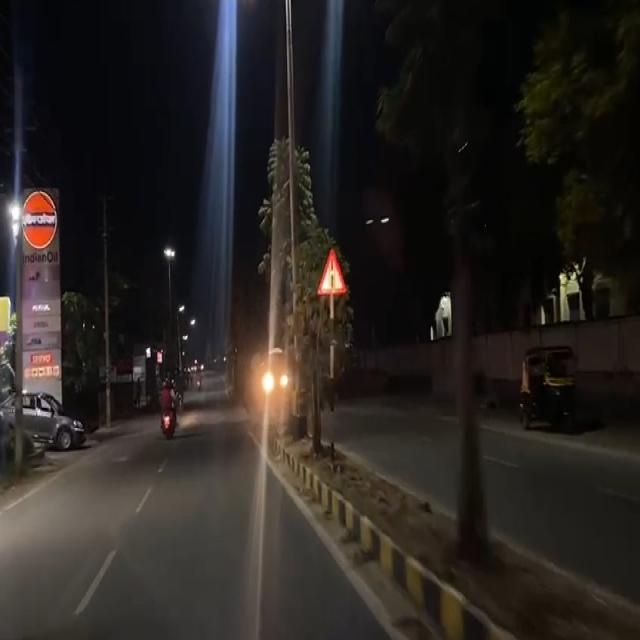bien_nguy_hiem: (317, 246, 347, 299)
